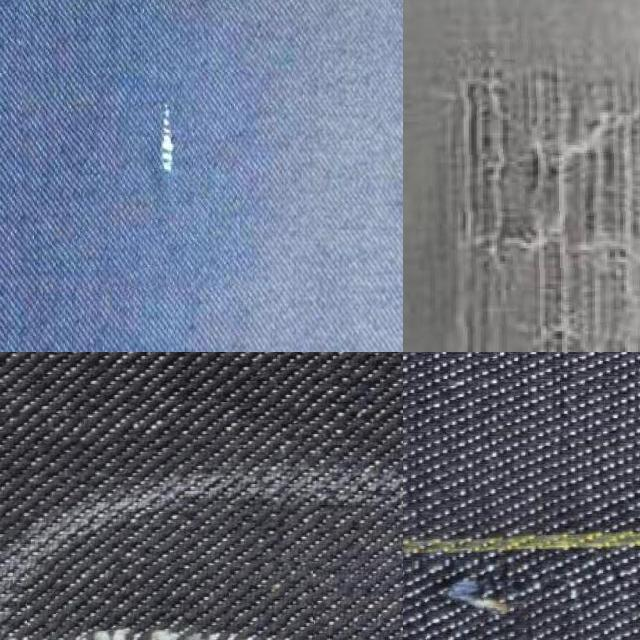stains: (403, 0, 640, 352), (20, 0, 250, 288), (26, 563, 313, 640), (403, 559, 640, 640)
